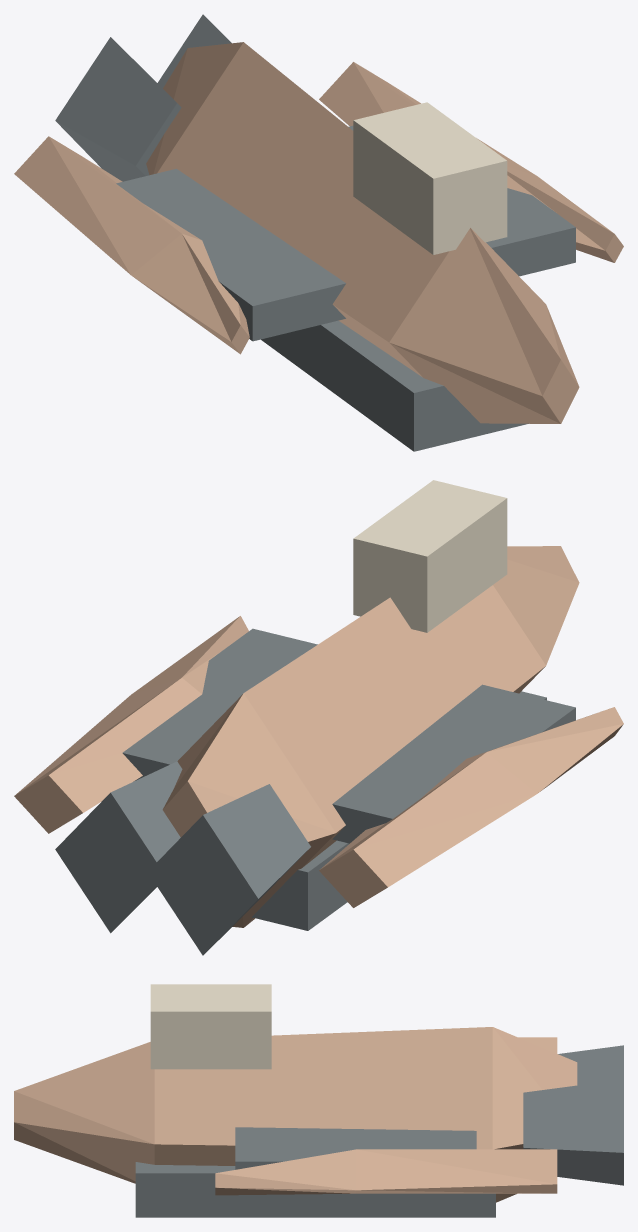
3 renders of one model, top to bottom at view 1: azimuth 30°, elevation 25°; view 2: azimuth 150°, elevation 25°; view 3: azimuth 270°, elevation 25°, orthographic. The views are drawn at different scales.
Size of the model in its own units: 3.27 by 2.1 by 5.64.
